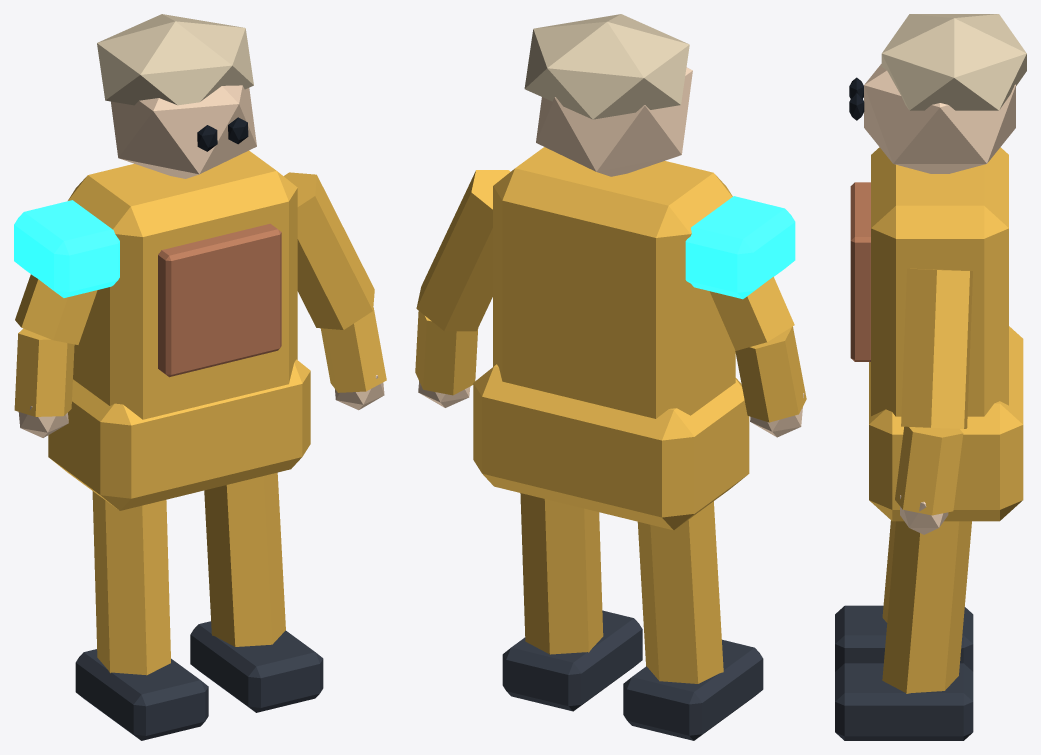
File: npcs_030_seed11.glb
3 views of the same model, side by side, from view 1: azimuth 30°, elevation 25°; view 2: azimuth 150°, elevation 25°; view 3: azimuth 270°, elevation 25° (orthographic). The views are drawn at different scales.
Parts seen in each view (by area): view 1: npcs_030_seed11; view 2: npcs_030_seed11; view 3: npcs_030_seed11.
Boxes of the visible parts, x1=… form: npcs_030_seed11: x1=14, y1=14, x2=386, y2=740; npcs_030_seed11: x1=415, y1=14, x2=806, y2=740; npcs_030_seed11: x1=835, y1=14, x2=1026, y2=740.
Size of the model in its own units: 1.09 by 1.88 by 0.481.
